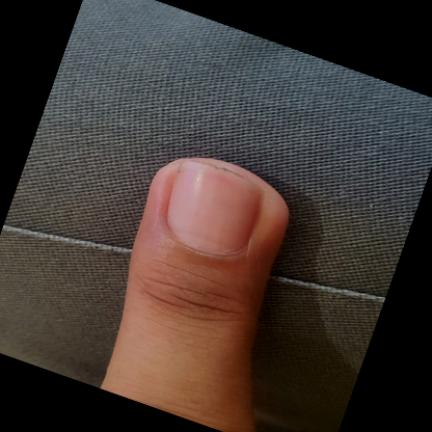Nail: (166, 160, 263, 256)
